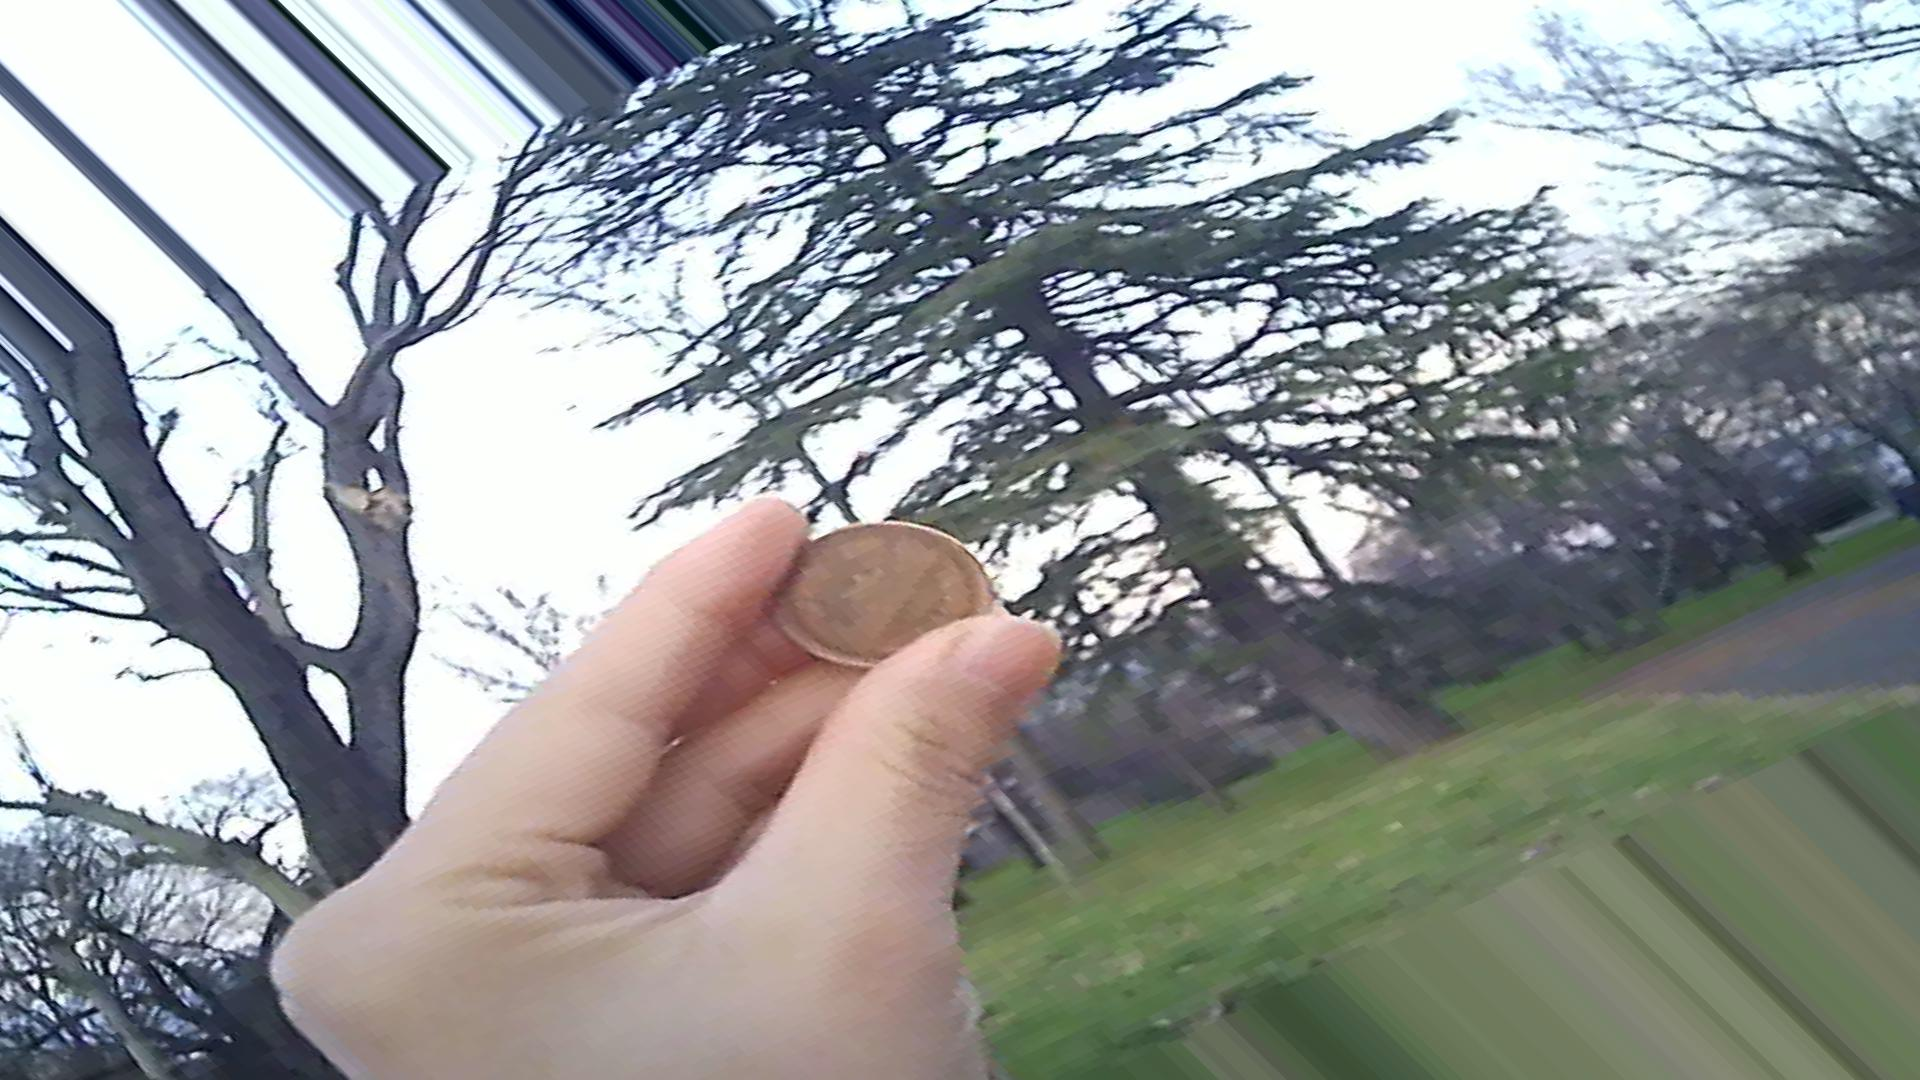10 Yen: (761, 516, 985, 678)
